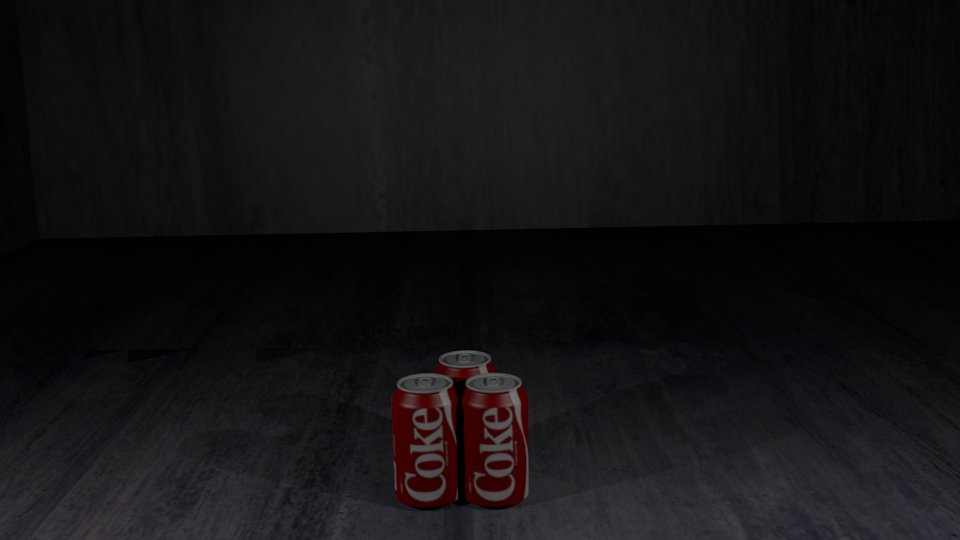cola_can: (392, 374, 460, 504), (460, 373, 527, 502), (434, 351, 496, 473)
